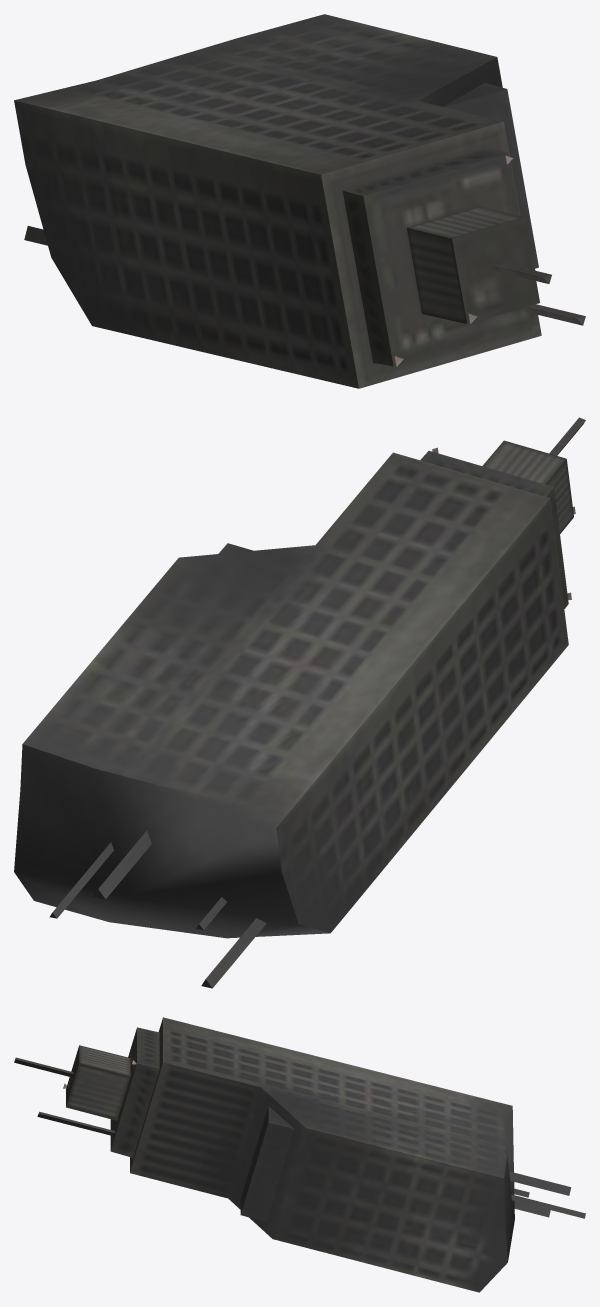
Rendered from skyBuildingAAB_pos_grp (8).fbx.
3 renders of one model, top to bottom at view 1: azimuth 30°, elevation 25°; view 2: azimuth 150°, elevation 25°; view 3: azimuth 270°, elevation 25°, orthographic. The views are drawn at different scales.
Visible parts, largest first — view 1: skyBuildingAAB_geo; view 2: skyBuildingAAB_geo; view 3: skyBuildingAAB_geo.
Boxes of the visible parts, x1,y1,x2,y2 form: skyBuildingAAB_geo: [14, 14, 585, 388]; skyBuildingAAB_geo: [14, 417, 585, 988]; skyBuildingAAB_geo: [14, 1017, 585, 1292].
Size of the model in its own units: 4.77 by 5.04 by 13.35.
